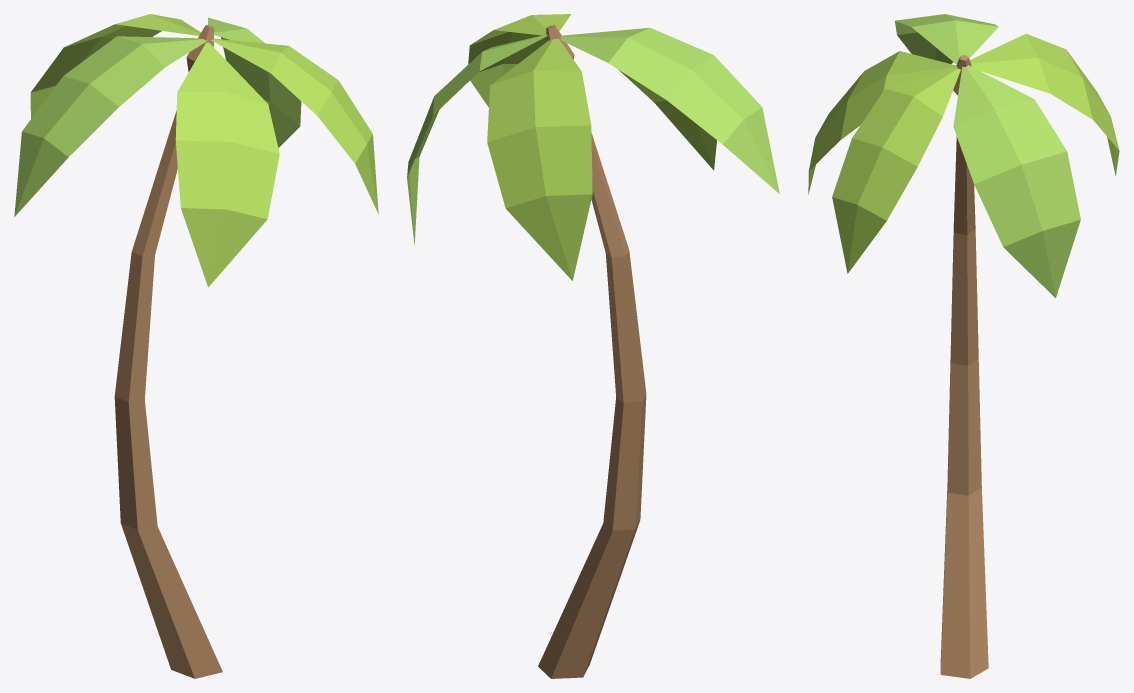
Rendered from Palm_Tree_s_03_LOD.fbx.
The picture shows the model from 3 angles, left to right: view 1: azimuth 30°, elevation 25°; view 2: azimuth 150°, elevation 25°; view 3: azimuth 270°, elevation 25°; orthographic projection. The views are drawn at different scales.
Visible parts, largest first — view 1: Palm_Tree_s_03_LOD0; view 2: Palm_Tree_s_03_LOD0; view 3: Palm_Tree_s_03_LOD0.
Boxes of the visible parts, bbox=[...] form: Palm_Tree_s_03_LOD0: bbox=[14, 14, 378, 678]; Palm_Tree_s_03_LOD0: bbox=[407, 14, 779, 678]; Palm_Tree_s_03_LOD0: bbox=[808, 14, 1119, 678].
Size of what is drawn, in the model's own units: 236 by 431 by 196.
